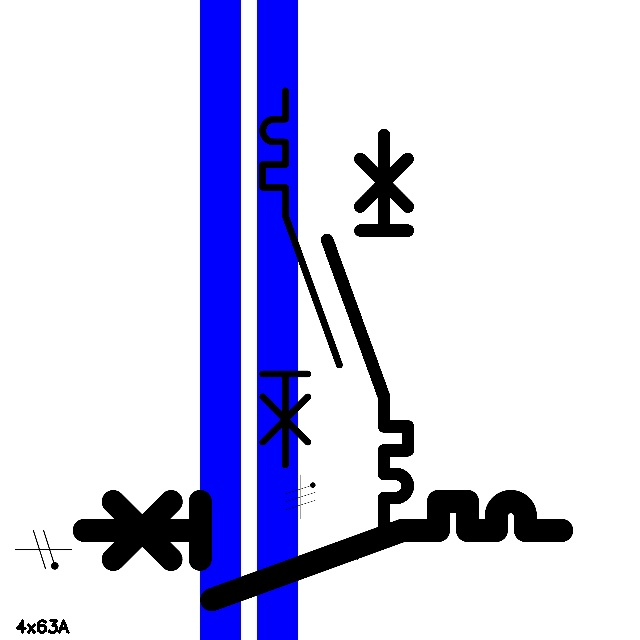interruptor_termomagnetico: (71, 489, 574, 612), (317, 125, 418, 538), (253, 81, 349, 475)
